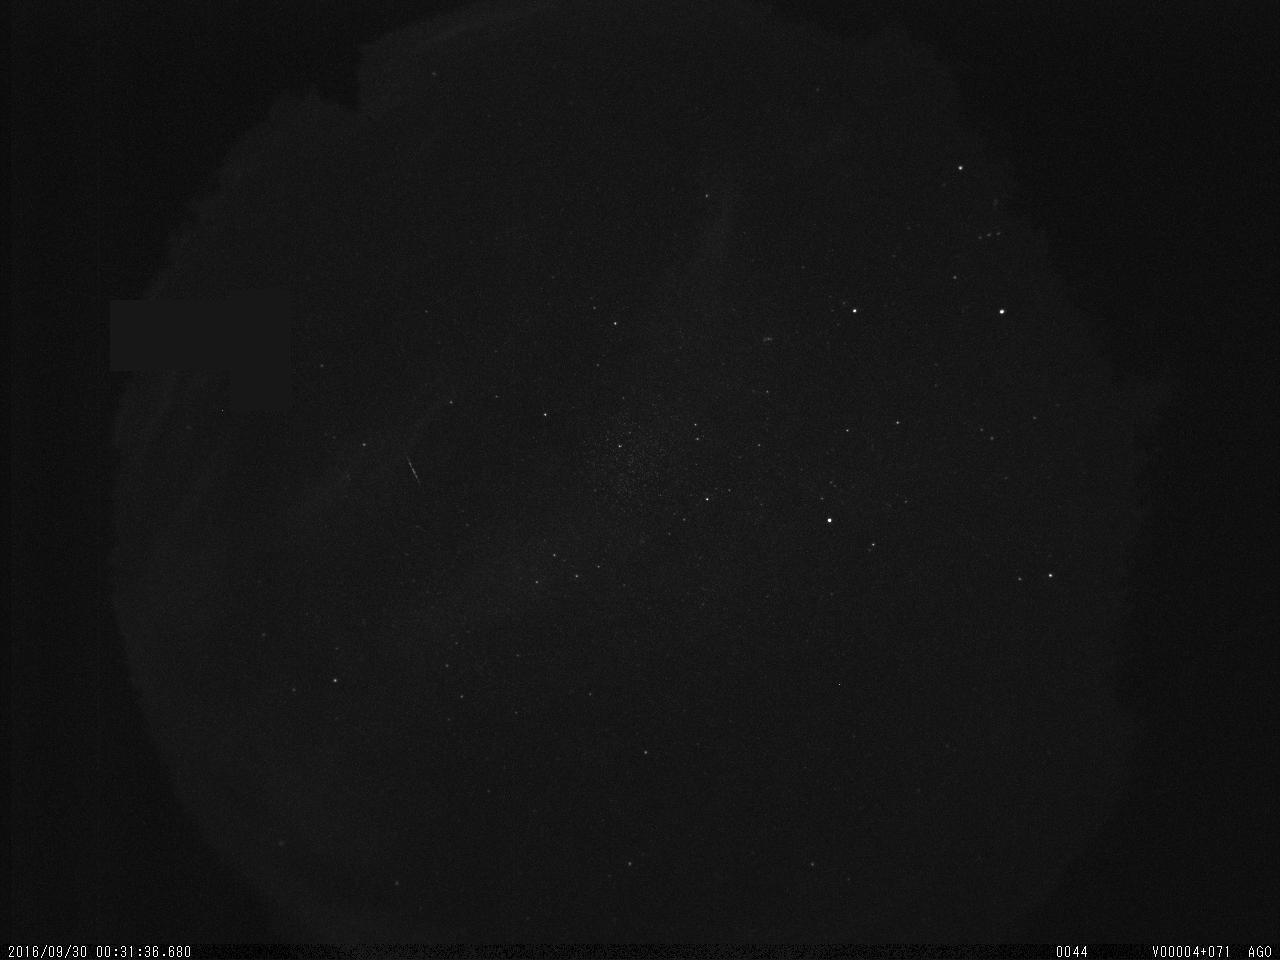Meteor: (401, 445, 426, 502)
